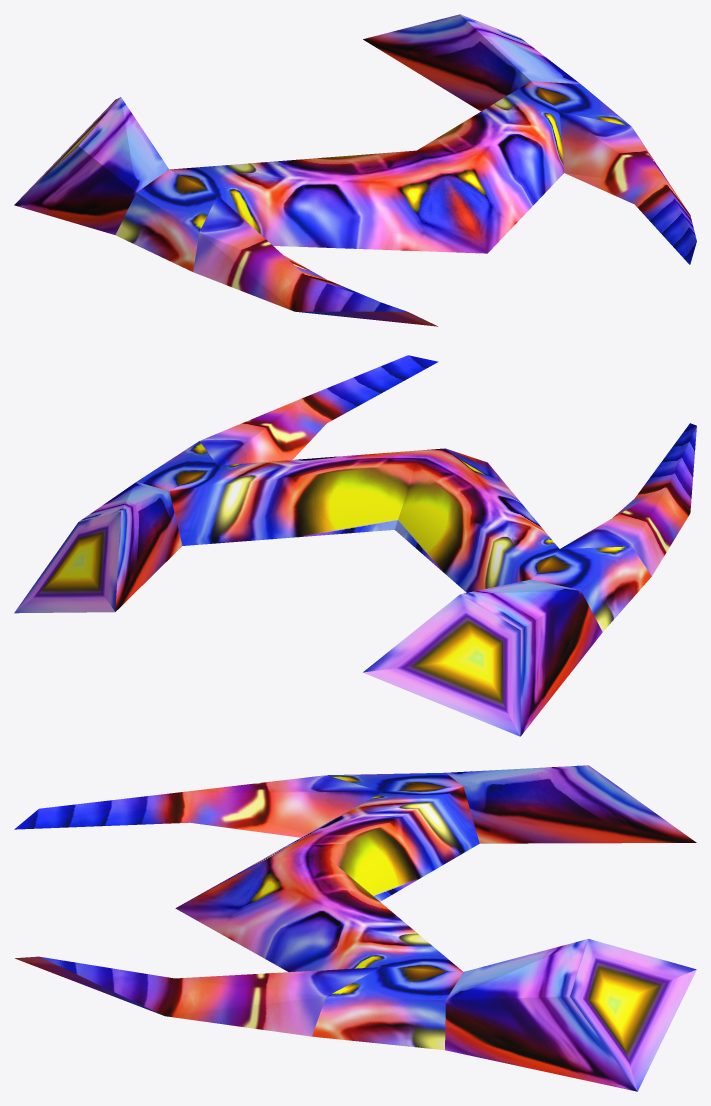
The model's file is ship-58.fbx.
The picture shows the model from 3 angles, top to bottom: view 1: azimuth 30°, elevation 25°; view 2: azimuth 150°, elevation 25°; view 3: azimuth 270°, elevation 25°; orthographic projection. The views are drawn at different scales.
Visible parts, largest first — view 1: ship-58; view 2: ship-58; view 3: ship-58.
Boxes of the visible parts, x1=… form: ship-58: x1=14, y1=14, x2=696, y2=326; ship-58: x1=14, y1=355, x2=696, y2=736; ship-58: x1=14, y1=765, x2=696, y2=1091.
Bounding box in the file's own units: 54.57 × 10.8 × 60.74.
